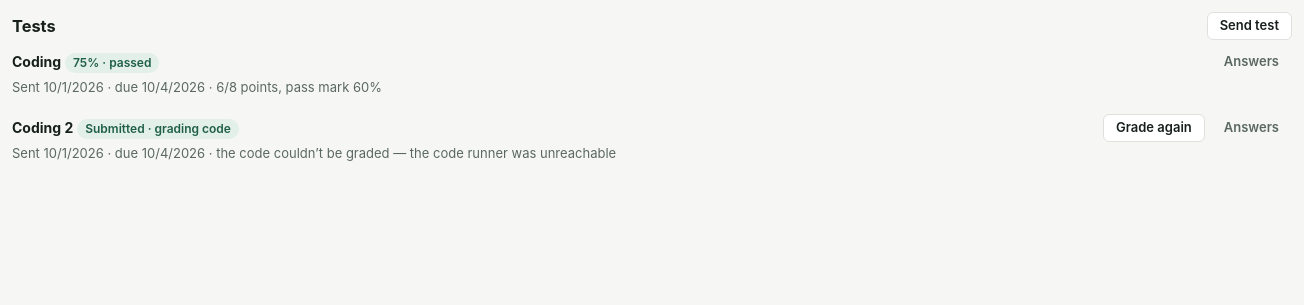
Test: TestsSection › shows graded code with its test cases and the browser signals (ASMT-29, ASMT-37)
Expected: the text "the code couldn’t be graded" is shown, top-left (205, 144), bottom-right (616, 160)
Expected: the button "Grade again" is shown, top-left (1103, 114), bottom-right (1205, 142)
Click the button "Answers" in the row of "75% · passed". click: (1251, 62)
box: top-left (1211, 48), bottom-right (1292, 76)
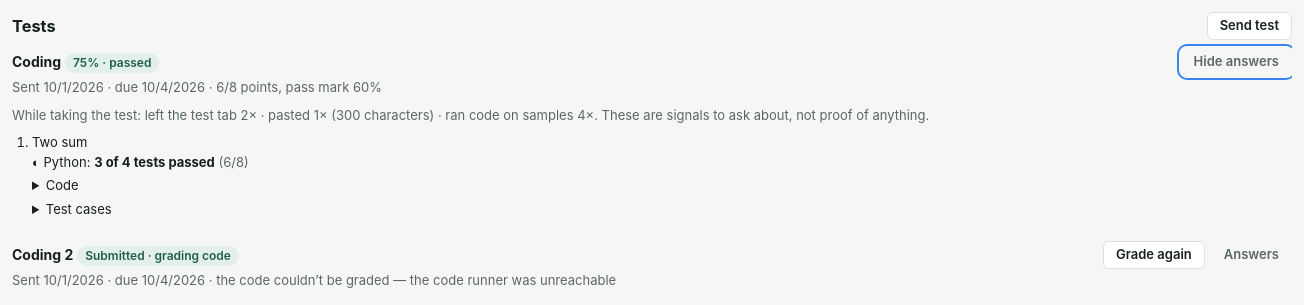
Expected: the text "3 of 4 tests passed" is shown, top-left (94, 154), bottom-right (215, 170)
Expected: the text "left the test tab 2× · pasted 1× (300 characters) · ran code on samples 4×" is shown, top-left (145, 106), bottom-right (594, 122)
